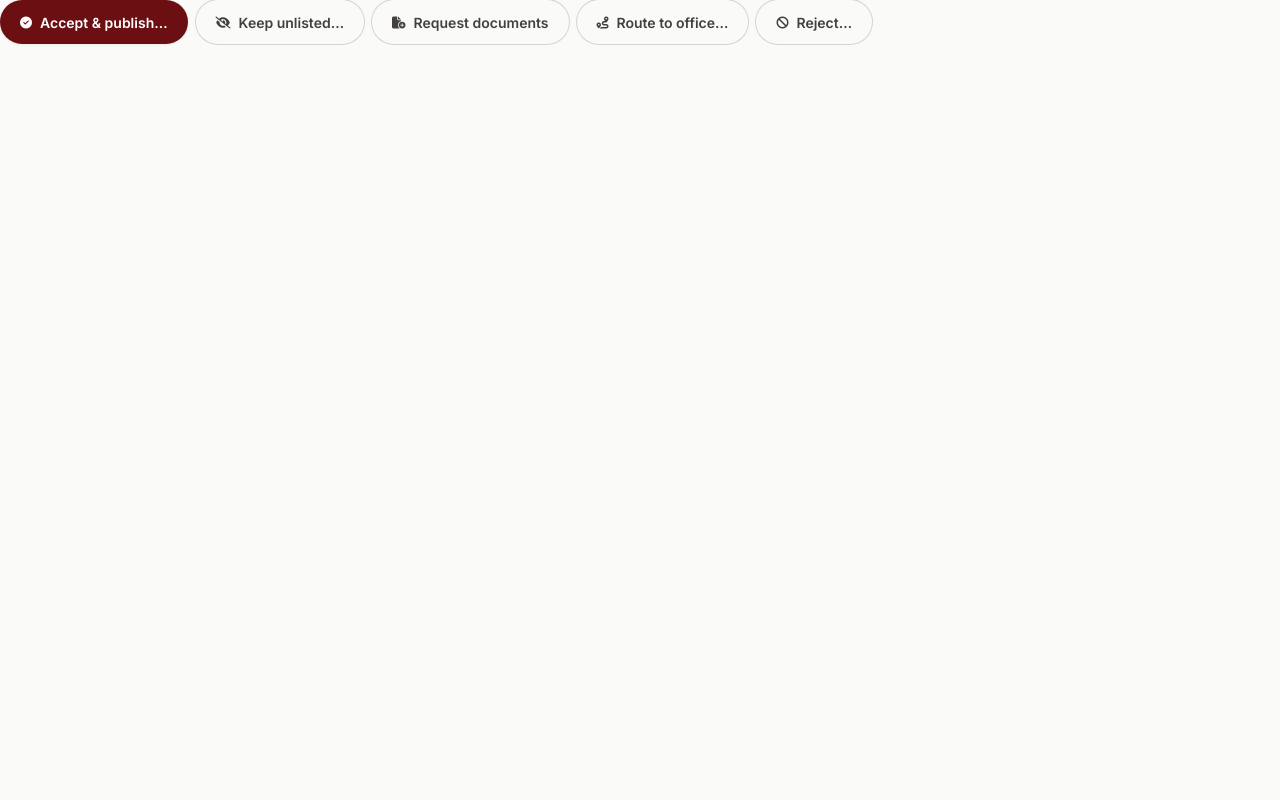
Test: the real actions (REVIEW_ACTIONS) › orders the Decisions so publishing is primary and rejecting comes last
The width and height of the screenshot is (1280, 800).
Click the button "Keep unlisted…". click: coordinates (280, 22)
box: [196, 0, 364, 44]
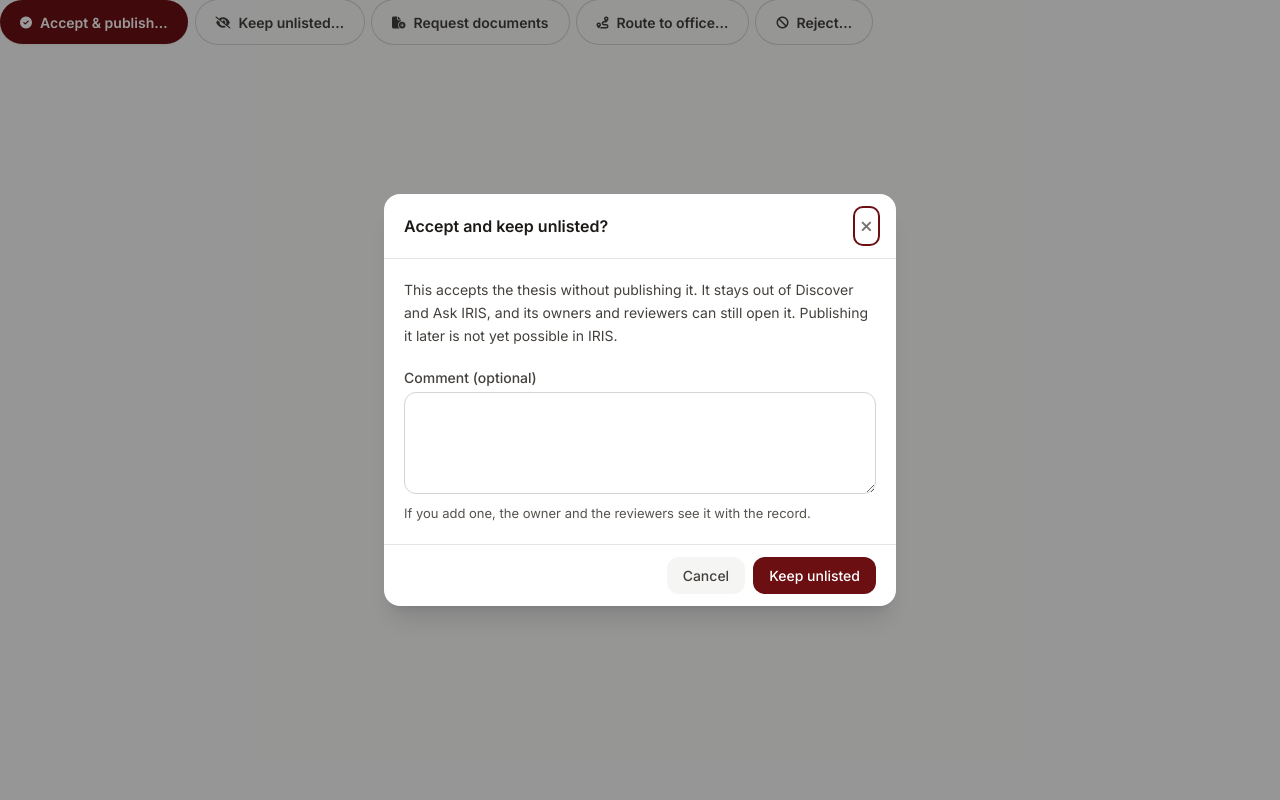
Now the dialog "Accept and keep unlisted?" is shown, box [384, 194, 896, 606]
